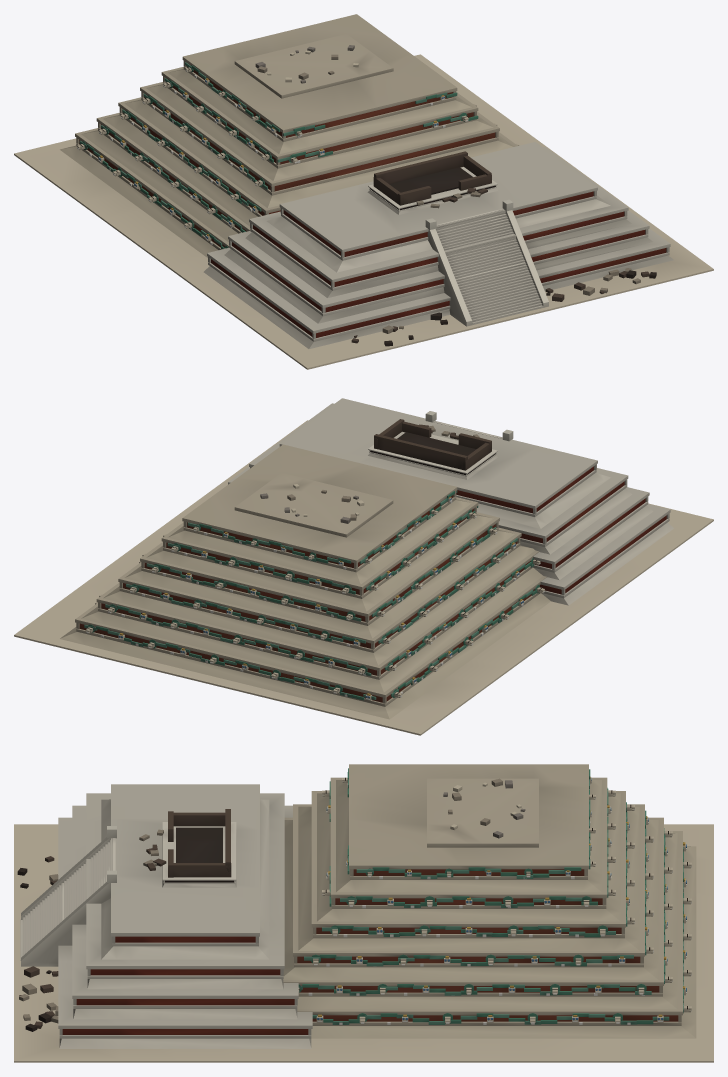
File: temple-of-the-feathered-serpent-650.glb
3 renders of one model, top to bottom at view 1: azimuth 30°, elevation 25°; view 2: azimuth 150°, elevation 25°; view 3: azimuth 270°, elevation 25°, orthographic. The views are drawn at different scales.
Parts seen in each view (by area): view 1: p1_pyramid, p2_temple, p0_ground; view 2: p1_pyramid, p0_ground, p2_temple; view 3: p1_pyramid, p0_ground, p2_temple.
Boxes of the visible parts, x1=… form: p1_pyramid: x1=60, y1=14, x2=673, y2=348; p2_temple: x1=234, y1=34, x2=656, y2=346; p0_ground: x1=14, y1=54, x2=713, y2=369; p1_pyramid: x1=60, y1=398, x2=673, y2=719; p0_ground: x1=14, y1=420, x2=713, y2=735; p2_temple: x1=234, y1=411, x2=513, y2=537; p1_pyramid: x1=58, y1=764, x2=696, y2=1048; p0_ground: x1=14, y1=824, x2=713, y2=1062; p2_temple: x1=17, y1=778, x2=538, y2=1031.
Bounding box in the file's own units: 80 × 21.63 × 100.
